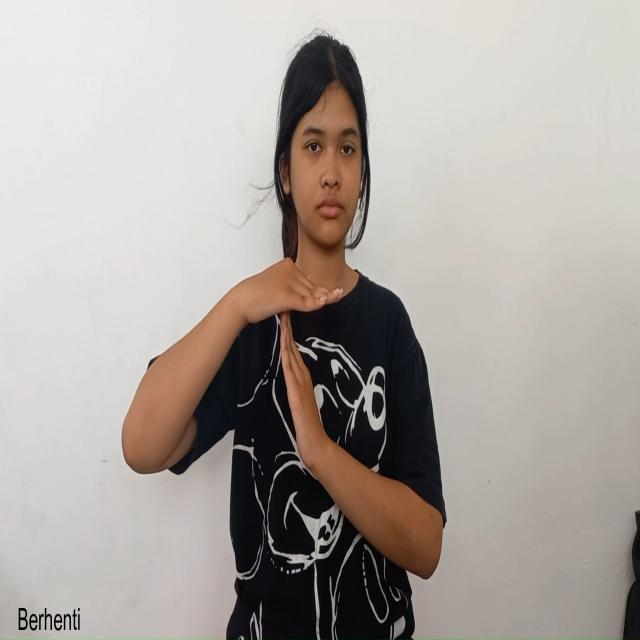Berhenti -BISINDO-: (235, 255, 394, 566)
